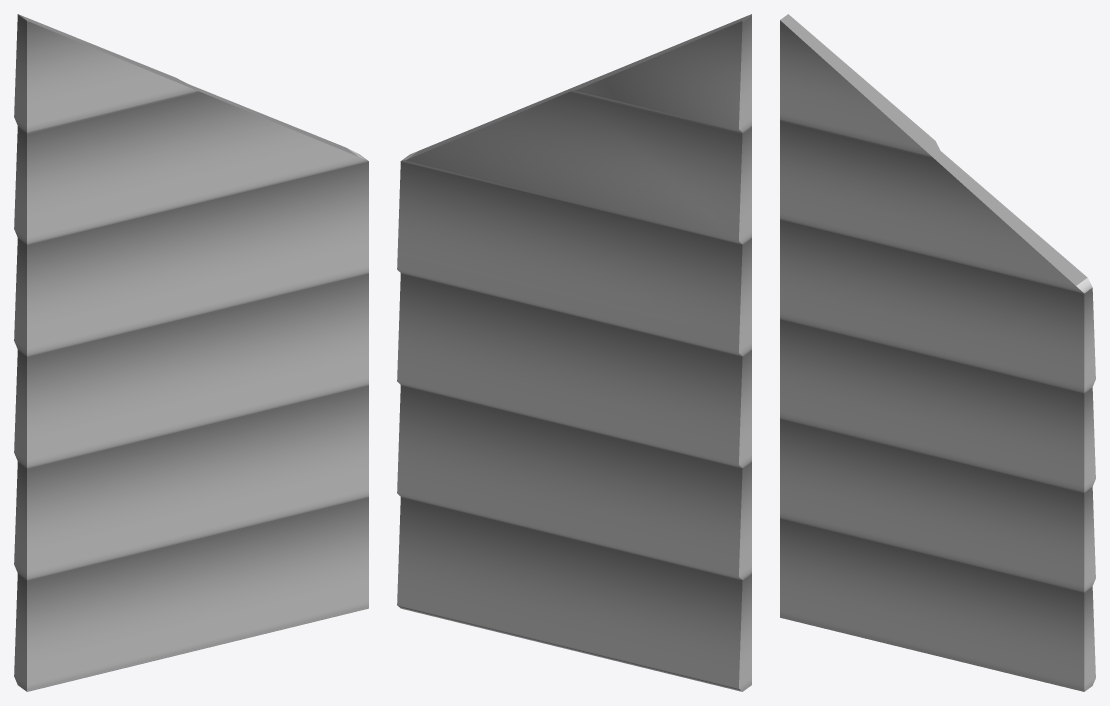
Rendered from Wall_Exterior_Angled_3.fbx.
3 renders of one model, left to right at view 1: azimuth 30°, elevation 25°; view 2: azimuth 150°, elevation 25°; view 3: azimuth 330°, elevation 25°, orthographic. The views are drawn at different scales.
Parts seen in each view (by area): view 1: Wall_Exterior_Angled_3; view 2: Wall_Exterior_Angled_3; view 3: Wall_Exterior_Angled_3.
Boxes of the visible parts, box(x1,y1,x2,y2) form: Wall_Exterior_Angled_3: box(14, 14, 368, 691); Wall_Exterior_Angled_3: box(397, 14, 751, 691); Wall_Exterior_Angled_3: box(780, 14, 1095, 691).
Size of the model in its own units: 1 by 1.88 by 0.066.
